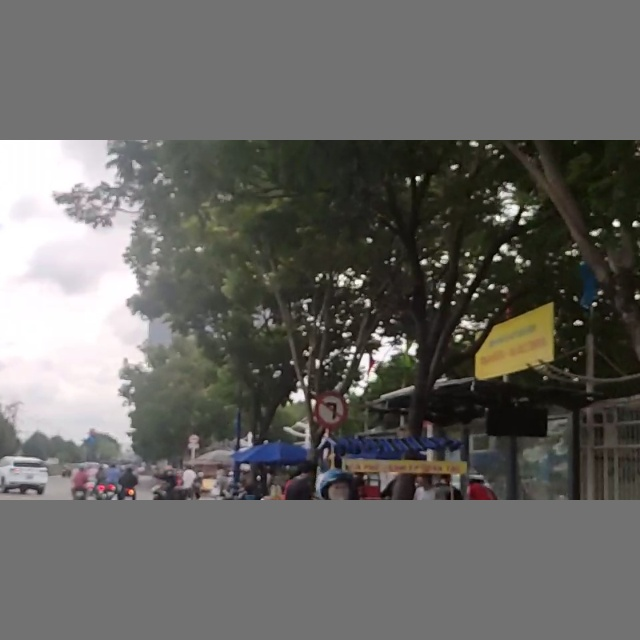P.123a: (314, 394, 347, 427)
